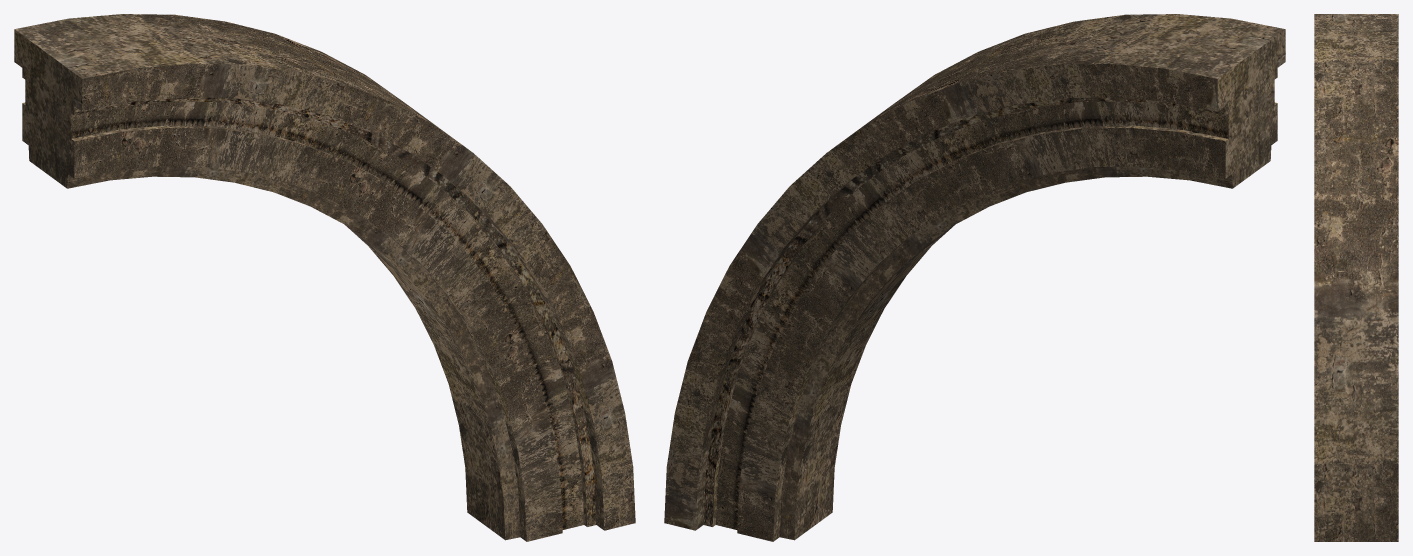
File: materials_5_arch_1.fbx
3 renders of one model, left to right at view 1: azimuth 30°, elevation 25°; view 2: azimuth 150°, elevation 25°; view 3: azimuth 270°, elevation 25°, orthographic. The views are drawn at different scales.
Parts seen in each view (by area): view 1: materials_5_arch_1; view 2: materials_5_arch_1; view 3: materials_5_arch_1.
Part boxes in pixels (x1,y1,x2,y2): materials_5_arch_1: (14, 14, 635, 541); materials_5_arch_1: (664, 14, 1285, 541); materials_5_arch_1: (1314, 14, 1398, 541).
Bounding box in the file's own units: 157 × 157 × 33.35.
